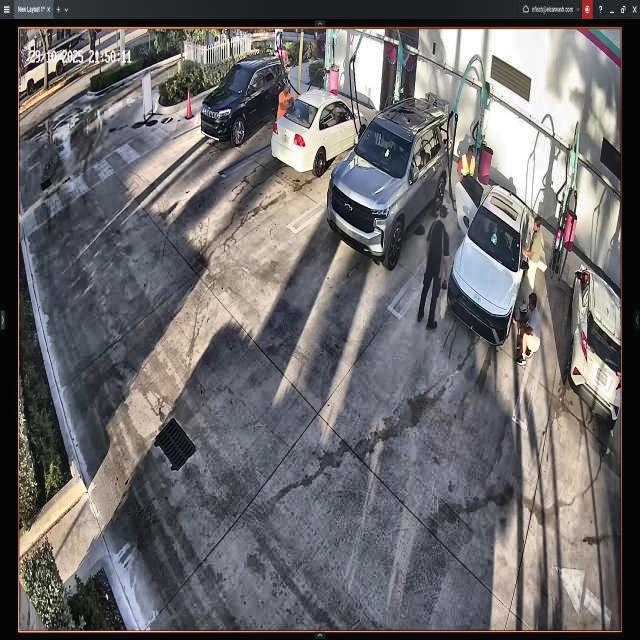Car: (327, 96, 451, 262), (453, 173, 534, 347), (272, 86, 367, 175)
